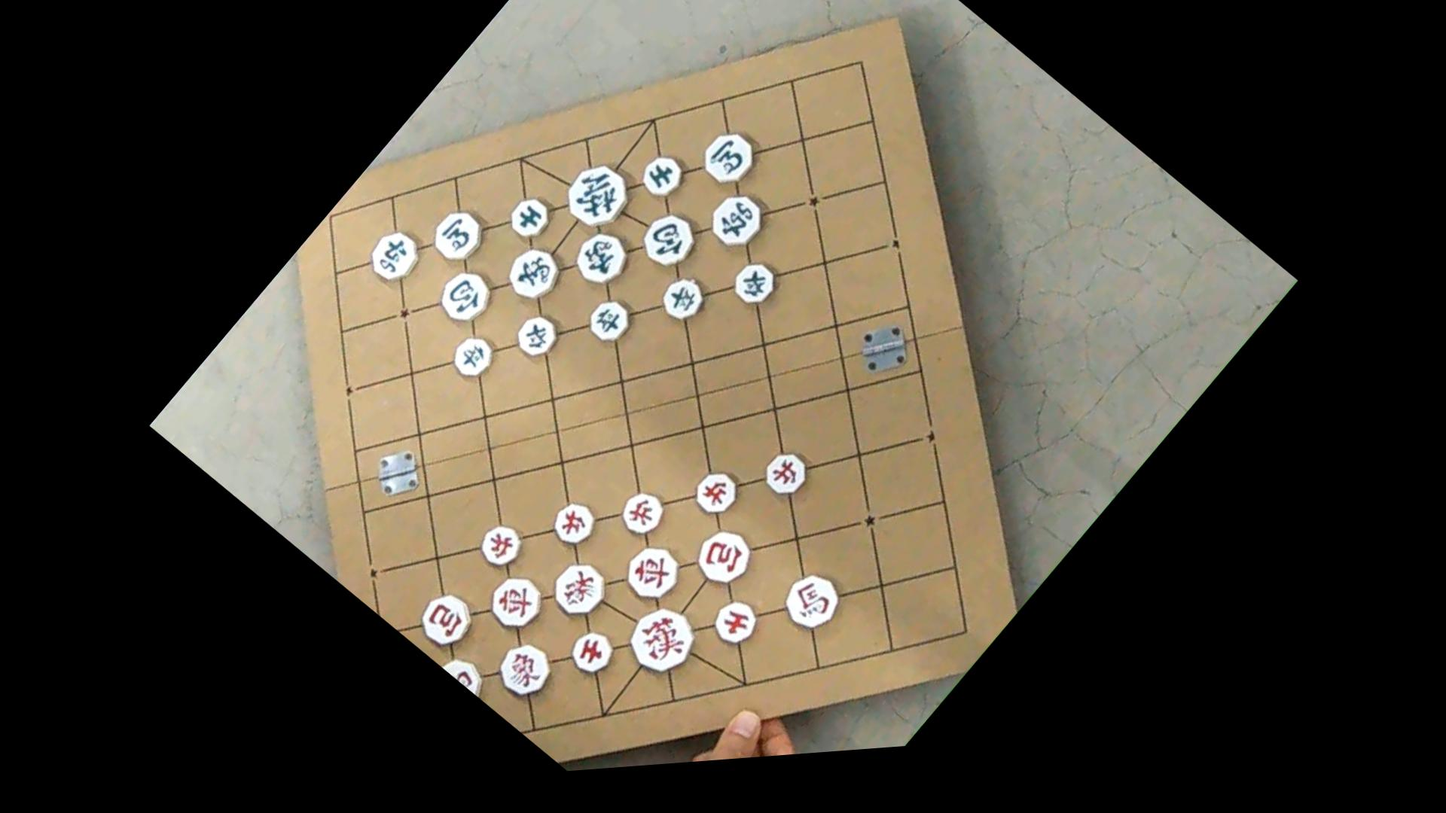cha_green: (703, 182, 772, 256), (363, 221, 426, 289)
cha_red: (618, 535, 688, 610), (482, 565, 550, 638)
jol_green: (656, 269, 711, 328), (727, 253, 782, 312), (583, 292, 636, 349), (446, 329, 498, 385), (511, 307, 563, 362)
jol_red: (757, 443, 813, 504), (688, 463, 744, 523), (545, 494, 601, 553), (615, 483, 670, 542), (474, 516, 529, 574)
ma_green: (695, 121, 763, 193), (425, 200, 490, 270)
ma_red: (776, 562, 848, 639), (776, 563, 848, 640), (441, 649, 490, 700)
po_green: (635, 202, 703, 276), (432, 262, 497, 331)
po_red: (688, 519, 758, 594), (413, 583, 480, 655)
sa_green: (636, 147, 689, 204), (503, 190, 554, 246)
sa_red: (707, 592, 764, 653), (563, 623, 619, 683)
sang_green: (568, 221, 636, 294), (500, 237, 567, 309)
sang_red: (490, 632, 559, 707), (545, 553, 612, 625)
wang_green: (557, 151, 639, 239)
wang_red: (619, 593, 706, 686)
